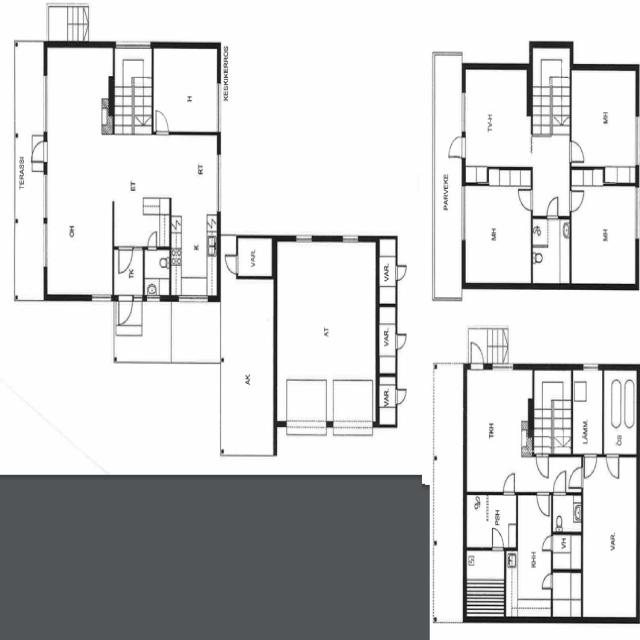door: (30, 141, 48, 162), (449, 136, 466, 158), (119, 296, 132, 324), (119, 246, 132, 273), (570, 190, 585, 212), (472, 343, 484, 370), (569, 467, 584, 488), (570, 141, 585, 162), (156, 110, 169, 134), (554, 471, 566, 496), (585, 454, 597, 478), (607, 454, 619, 478), (536, 454, 548, 478), (538, 492, 550, 516), (519, 190, 533, 210), (493, 528, 504, 550), (225, 256, 238, 274), (504, 473, 514, 496), (548, 197, 558, 219), (542, 536, 554, 551), (542, 574, 554, 589), (148, 231, 156, 250), (396, 389, 406, 404), (396, 265, 406, 280), (396, 334, 406, 349)
